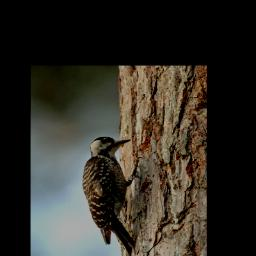Woodpecker: (81, 133, 144, 256)
